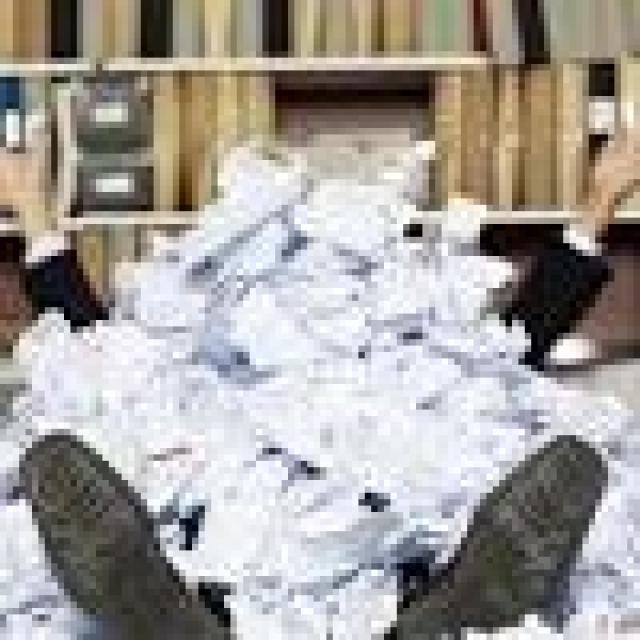Paper -Biodegradable-: (0, 146, 640, 640)
